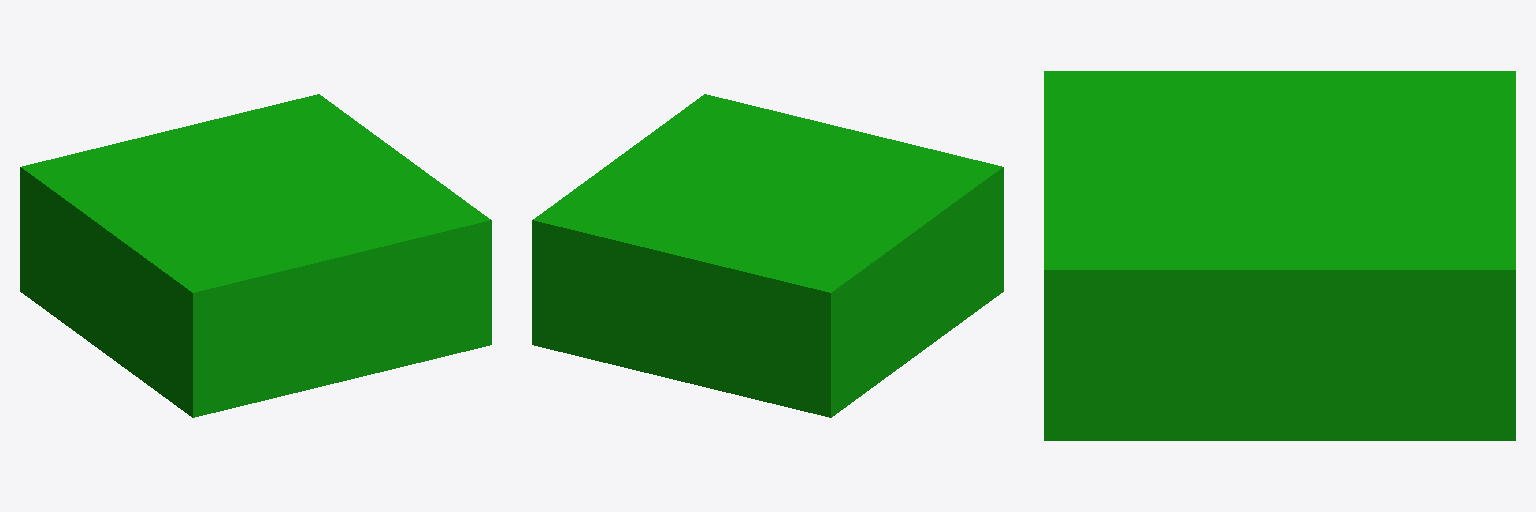
robot.urdf — block_2:
<?xml version="1.0"?>
<robot name="block_2">
  <link name="block_2_base_link">
    <contact>
      <lateral_friction value="1.0"/>
      <spinning_friction value=".001"/>
    </contact>
    <inertial>
      <origin rpy="0 0 0" xyz="0 0 0"/>
      <mass value="20"/>
      <inertia ixx="1" ixy="0" ixz="0" iyy="1" iyz="0" izz="1"/>
    </inertial>
    <visual>
      <origin rpy="0 0 0" xyz="0.0 0.0 0.0"/>
      <geometry>
        <box size="0.10 0.1 0.04"/>
      </geometry>
      <material name="blockmat">
        <color rgba="0.1 0.7 0.1 1"/>
      </material>
    </visual>
    <collision>
      <origin rpy="0 0 0" xyz="0.0 0.0 0.0"/>
      <geometry>
        <box size="0.10 0.1 0.04"/>
      </geometry>
    </collision>
  </link>
</robot>

--- What the picture shows (computed from the rendered views, not written in the file) ---
The picture shows the robot from 3 angles, left to right: view 1: azimuth 30°, elevation 25°; view 2: azimuth 150°, elevation 25°; view 3: azimuth 270°, elevation 25°; orthographic projection.
Robot: block_2 — 1 links, 0 joints (none); root link block_2_base_link; default pose: every joint at zero.
Links seen in each view (by area): view 1: block_2_base_link; view 2: block_2_base_link; view 3: block_2_base_link.
Link boxes in pixels (box(x1,y1,x2,y2)): block_2_base_link: box(20, 94, 491, 417); block_2_base_link: box(532, 94, 1003, 417); block_2_base_link: box(1044, 71, 1515, 440).
Bounding box of the posed robot: 0.1 × 0.1 × 0.04 m (x, y, z).
Geometry: primitives only (box / cylinder / sphere), no mesh files.